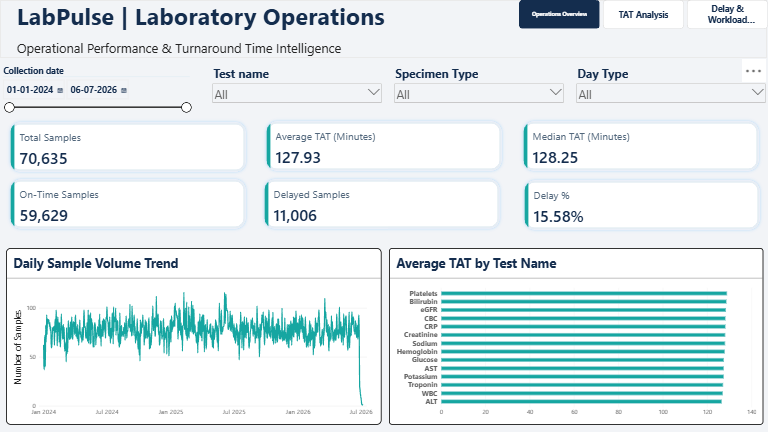

This screenshot's page, from the dashboard's own definition file:
{"tool":"powerbi","page":{"name":"Operations Overview","canvas":[1920,1080],"ordinal":0},"visuals":[{"type":"cardVisual","fields":{"Data":["labpulse lab_results.Total Samples"]},"box":[13.9,294.7,610,145],"z":0},{"type":"cardVisual","fields":{"Data":["labpulse lab_results.Average TAT (Minutes)"]},"box":[654.9,292.6,610,145],"z":1000},{"type":"cardVisual","fields":{"Data":["labpulse lab_results.Median TAT (Minutes)"]},"box":[1298.5,292.6,610,145],"z":2000},{"type":"cardVisual","fields":{"Data":["labpulse lab_results.Delayed Samples"]},"box":[648.9,437.3,610,145],"z":3000},{"type":"cardVisual","title":"Delay Rate","fields":{"Data":["labpulse lab_results.Delay %"]},"box":[1299.1,439.4,610,145],"z":4000},{"type":"cardVisual","fields":{"Data":["labpulse lab_results.On-Time Samples"]},"box":[13.9,437.3,610,145],"z":5000},{"type":"lineChart","title":"Daily Sample Volume Trend","fields":{"Category":["labpulse lab_results.collection_date"],"Y":["labpulse lab_results.Total Samples"]},"box":[13.9,619.4,938.9,441.7],"z":6000},{"type":"textbox","box":[0,0,1918.1,144.7],"z":7000},{"type":"clusteredBarChart","title":"Average TAT by Test Name","fields":{"Category":["labpulse lab_results.test_name"],"Y":["labpulse lab_results.Average TAT (Minutes)"]},"box":[972.2,619.4,936.1,441.7],"z":8000},{"type":"slicer","fields":{"Values":["labpulse lab_results.collection_date"]},"box":[0,162.5,482,150],"z":9000},{"type":"slicer","fields":{"Values":["labpulse lab_results.test_name"]},"box":[525,162.5,435,150],"z":10000},{"type":"slicer","fields":{"Values":["labpulse lab_results.specimen_type"]},"box":[979,162.5,435,150],"z":11000},{"type":"slicer","fields":{"Values":["labpulse lab_results.day_type"]},"box":[1434,162.5,485,167.5],"z":12000},{"type":"pageNavigator","box":[1297.5,0,622.5,72.5],"z":12001}]}

Visuals, with their boxes in screenshot pixels (x1, y1, x2, y2), scaled from the page's 1920x1080 canvas onto the 768x432 screenshot:
cardVisual - labpulse lab_results.Total Samples: [x1=6, y1=118, x2=250, y2=176]
cardVisual - labpulse lab_results.Average TAT (Minutes): [x1=262, y1=117, x2=506, y2=175]
cardVisual - labpulse lab_results.Median TAT (Minutes): [x1=519, y1=117, x2=763, y2=175]
cardVisual - labpulse lab_results.Delayed Samples: [x1=260, y1=175, x2=504, y2=233]
"Delay Rate" cardVisual: [x1=520, y1=176, x2=764, y2=234]
cardVisual - labpulse lab_results.On-Time Samples: [x1=6, y1=175, x2=250, y2=233]
"Daily Sample Volume Trend" lineChart: [x1=6, y1=248, x2=381, y2=424]
textbox: [x1=0, y1=0, x2=767, y2=58]
"Average TAT by Test Name" clusteredBarChart: [x1=389, y1=248, x2=763, y2=424]
slicer - labpulse lab_results.collection_date: [x1=0, y1=65, x2=193, y2=125]
slicer - labpulse lab_results.test_name: [x1=210, y1=65, x2=384, y2=125]
slicer - labpulse lab_results.specimen_type: [x1=392, y1=65, x2=566, y2=125]
slicer - labpulse lab_results.day_type: [x1=574, y1=65, x2=767, y2=132]
pageNavigator: [x1=519, y1=0, x2=767, y2=29]
